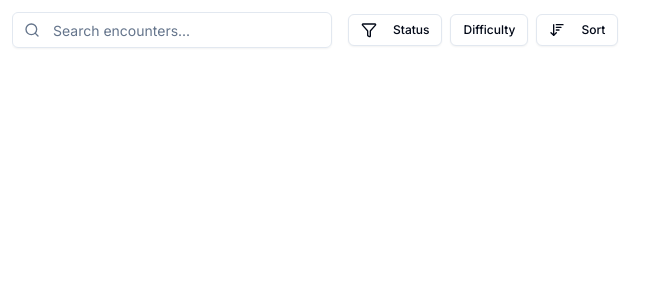
Scenario: EncounterFilters › Difficulty Filter › opens difficulty filter dropdown
What coordinates should you click on to do the following:
click the button "Difficulty"
I would click on:
 (490, 30)
Its box is [450, 14, 528, 46].
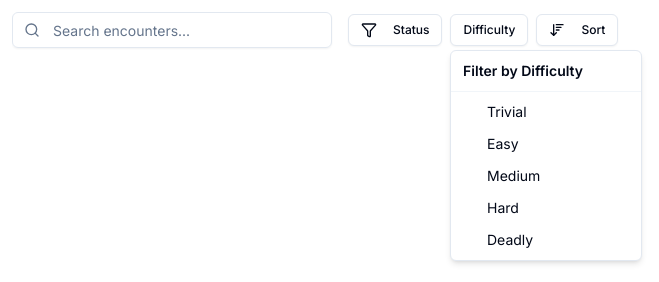
Result: the text "Filter by Difficulty" is shown at [463, 62, 583, 79]
Result: the menu item "Trivial" is shown at [487, 103, 527, 120]
Result: the menu item "Easy" is shown at [487, 135, 518, 152]
